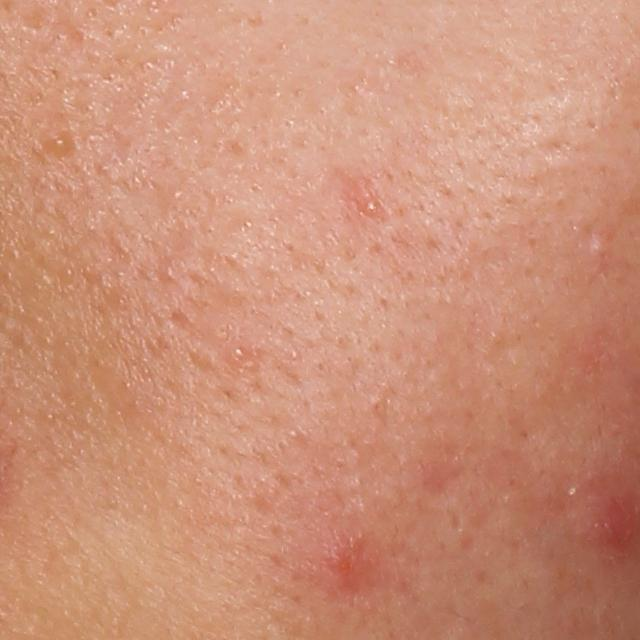comedo: (586, 236, 611, 259)
papule: (325, 531, 368, 588)
